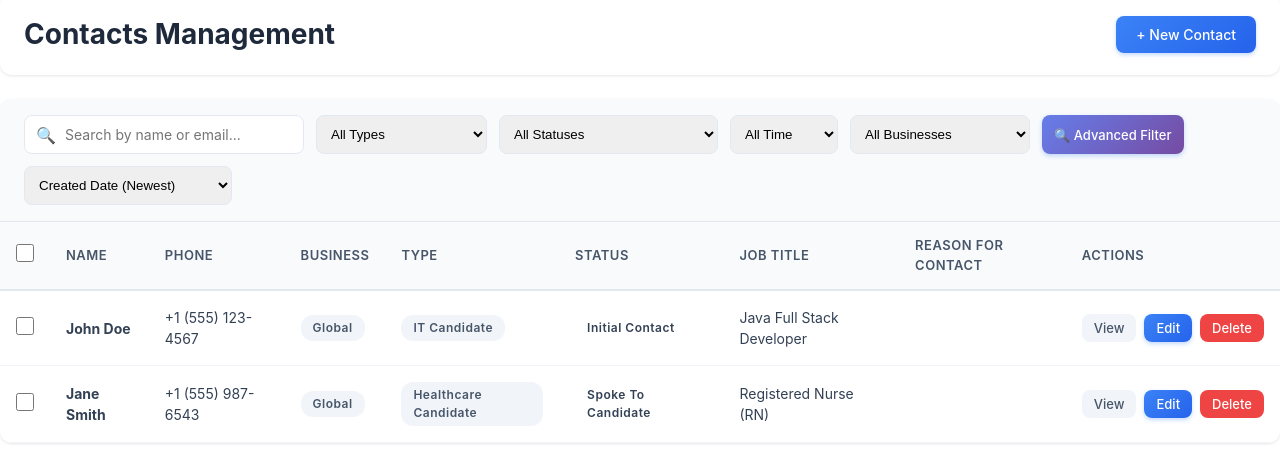
Test: ContactsManager Search and Filter › should filter contacts by last name search
This screenshot has width=1280, height=461.
Type "Smith" into the field with placeholder "Search by name or email..." at (164, 134), box [24,115,304,154]
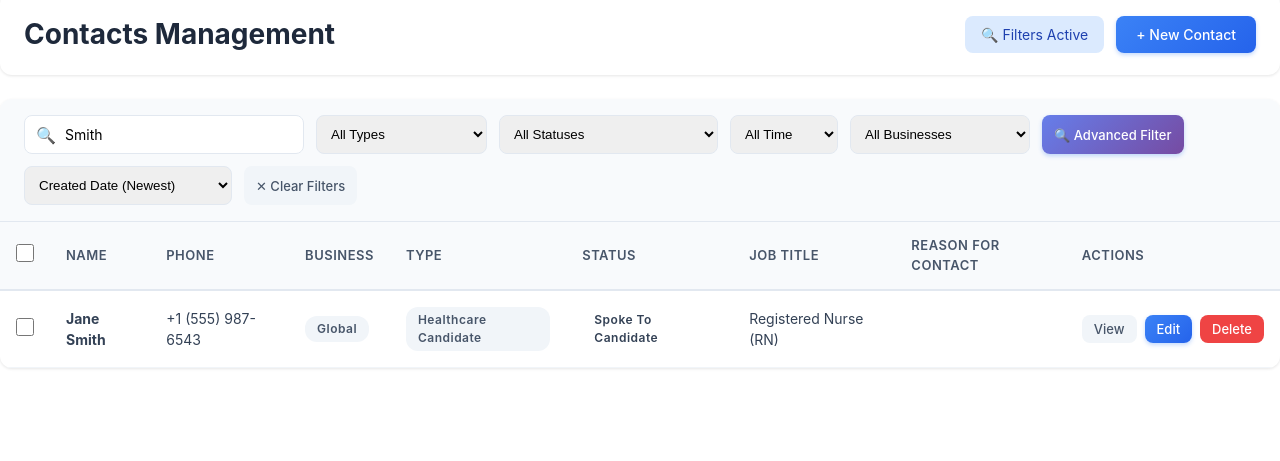
Expected: the text "Jane Smith" is shown, [66,310,106,348]
Now the text "John Doe" is gone
